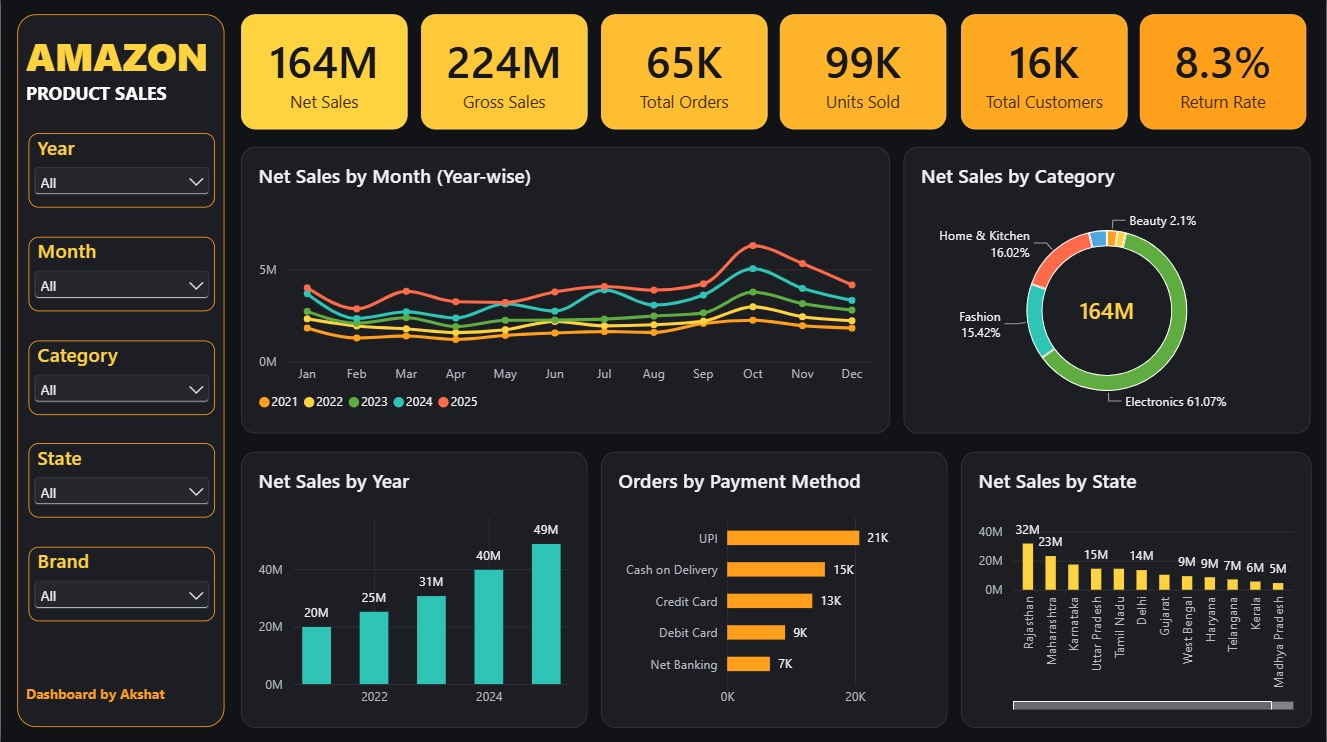

Layout of this report page (visuals, bound fields, positions):
{"tool":"powerbi","page":{"name":"Overview","canvas":[1280,720],"ordinal":0},"visuals":[{"type":"textbox","box":[16,16,200,688],"z":1},{"type":"card","fields":{"Values":["Sales.Net Sales"]},"box":[232,16,161,111],"z":100},{"type":"card","fields":{"Values":["Sales.Gross Sales"]},"box":[405,16,161,111],"z":101},{"type":"card","fields":{"Values":["Sales.Total Orders"]},"box":[579,16,161,111],"z":102},{"type":"card","fields":{"Values":["Sales.Units Sold"]},"box":[752,16,161,111],"z":103},{"type":"card","fields":{"Values":["Sales.Total Customers"]},"box":[926,16,161,111],"z":104},{"type":"card","fields":{"Values":["Sales.Return Rate"]},"box":[1099,16,161,111],"z":105},{"type":"lineChart","title":"Net Sales by Month (Year-wise)","fields":{"Category":["DimDate.Month"],"Series":["DimDate.Year"],"Y":["Sales.Net Sales"]},"box":[232,144,626,277],"z":200},{"type":"donutChart","title":"Net Sales by Category","fields":{"Category":["Products.Category"],"Y":["Sales.Net Sales"]},"box":[871,144,393,277],"z":201},{"type":"clusteredColumnChart","title":"Net Sales by Year","fields":{"Category":["DimDate.Year"],"Y":["Sales.Net Sales"]},"box":[232,438,334,266],"z":202},{"type":"clusteredBarChart","title":"Orders by Payment Method","fields":{"Category":["Sales.PaymentMethod"],"Y":["Sales.Total Orders"]},"box":[579,438,334,266],"z":203},{"type":"clusteredColumnChart","title":"Net Sales by State","fields":{"Category":["Sales.State"],"Y":["Sales.Net Sales"]},"box":[926,438,338,266],"z":204},{"type":"slicer","fields":{"Values":["DimDate.Year"]},"box":[26,130,180,72],"z":9000},{"type":"slicer","fields":{"Values":["DimDate.Month"]},"box":[26,230,180,72],"z":9001},{"type":"slicer","fields":{"Values":["Products.Category"]},"box":[26,330,180,72],"z":9002},{"type":"slicer","fields":{"Values":["Sales.State"]},"box":[26,430,180,72],"z":9003},{"type":"textbox","box":[24,30,184,78],"z":9100},{"type":"textbox","box":[24,662,184,36],"z":9101},{"type":"slicer","fields":{"Values":["Products.Brand"]},"box":[26,530,180,72],"z":9300}]}

Visuals, with their boxes in screenshot pixels (x1, y1, x2, y2), scaled from the page's 1280x720 canvas onto the 1327x742 screenshot:
textbox: locate(17, 16, 224, 726)
card - Sales.Net Sales: locate(241, 16, 407, 131)
card - Sales.Gross Sales: locate(420, 16, 587, 131)
card - Sales.Total Orders: locate(600, 16, 767, 131)
card - Sales.Units Sold: locate(780, 16, 947, 131)
card - Sales.Total Customers: locate(960, 16, 1127, 131)
card - Sales.Return Rate: locate(1139, 16, 1306, 131)
"Net Sales by Month (Year-wise)" lineChart: locate(241, 148, 890, 434)
"Net Sales by Category" donutChart: locate(903, 148, 1310, 434)
"Net Sales by Year" clusteredColumnChart: locate(241, 451, 587, 726)
"Orders by Payment Method" clusteredBarChart: locate(600, 451, 947, 726)
"Net Sales by State" clusteredColumnChart: locate(960, 451, 1310, 726)
slicer - DimDate.Year: locate(27, 134, 214, 208)
slicer - DimDate.Month: locate(27, 237, 214, 311)
slicer - Products.Category: locate(27, 340, 214, 414)
slicer - Sales.State: locate(27, 443, 214, 517)
textbox: locate(25, 31, 216, 111)
textbox: locate(25, 682, 216, 719)
slicer - Products.Brand: locate(27, 546, 214, 620)
